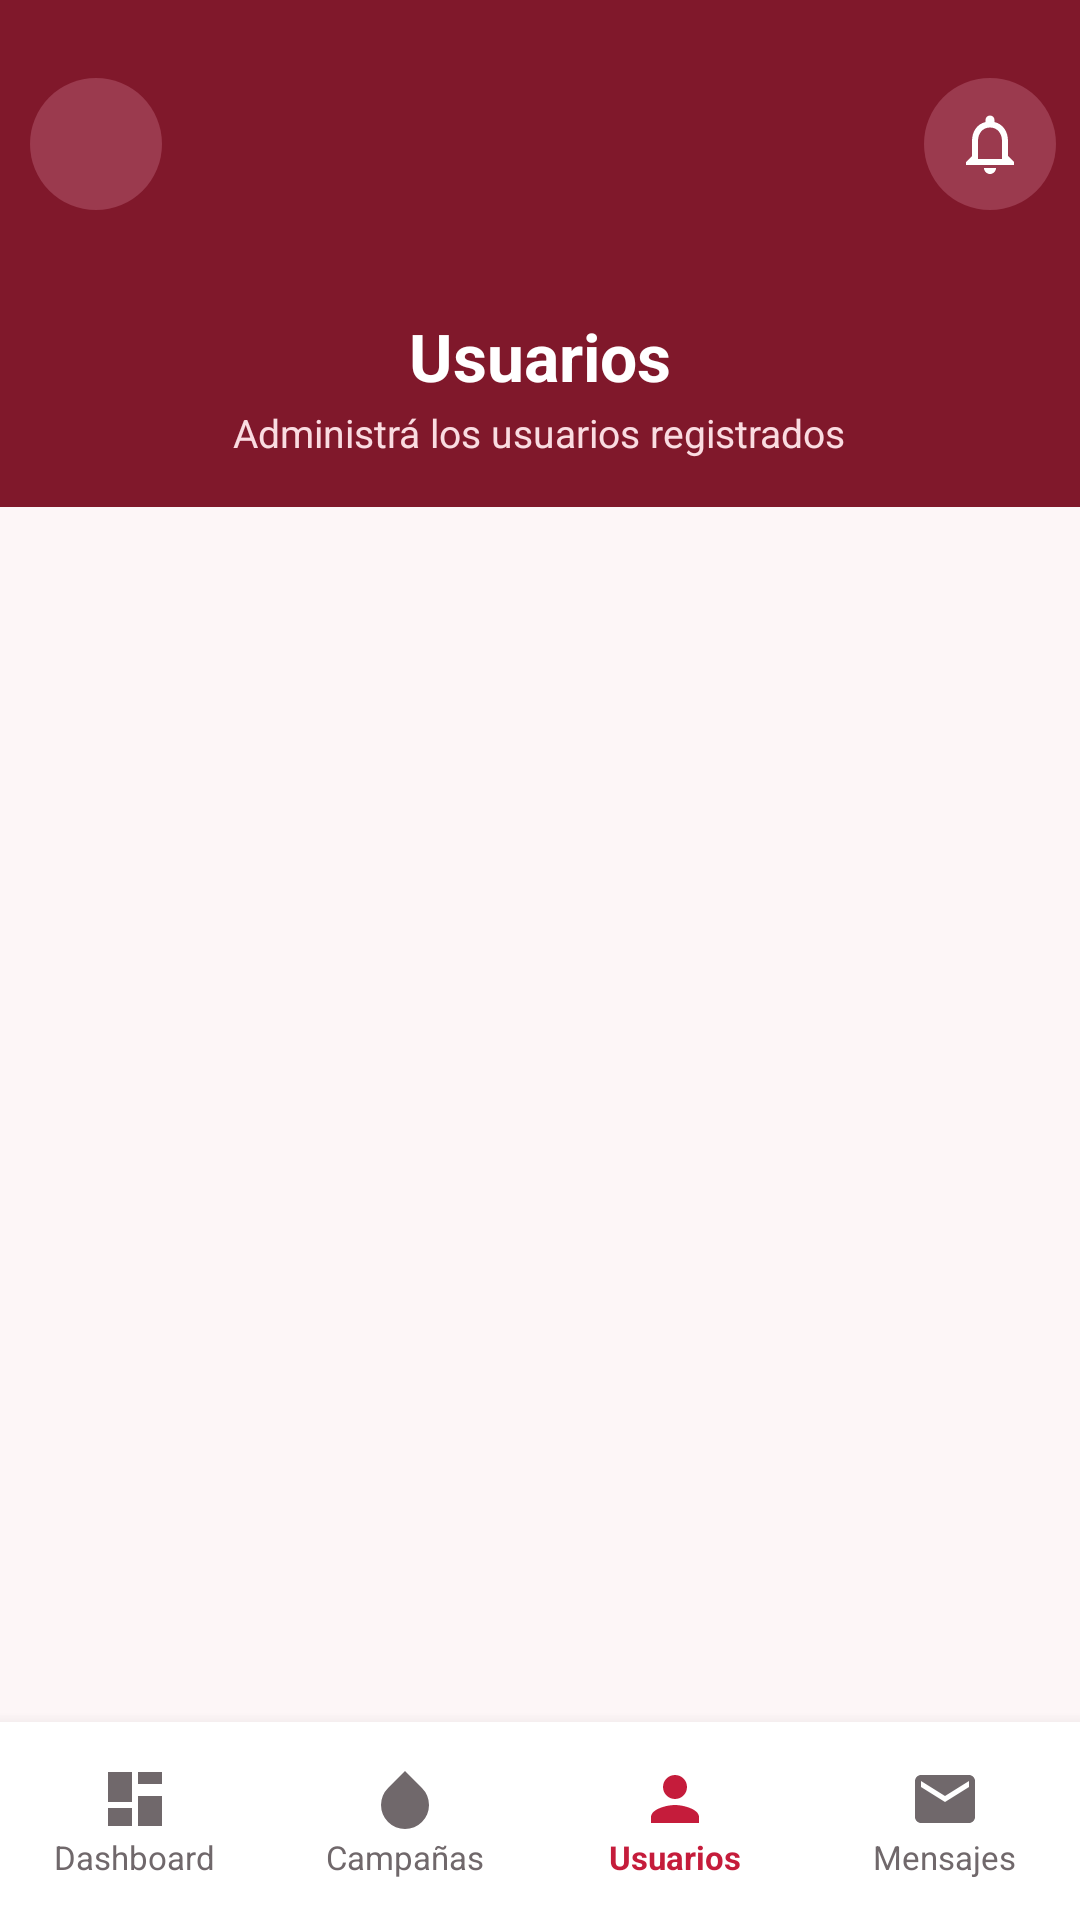

Locate icon controls on the screen. Image size 1080w x 1920h, boxes as {"x1": x1, "y1": y1, "x2": x2, "y2": y2}.
Notificaciones: {"x1": 924, "y1": 78, "x2": 1056, "y2": 210}
